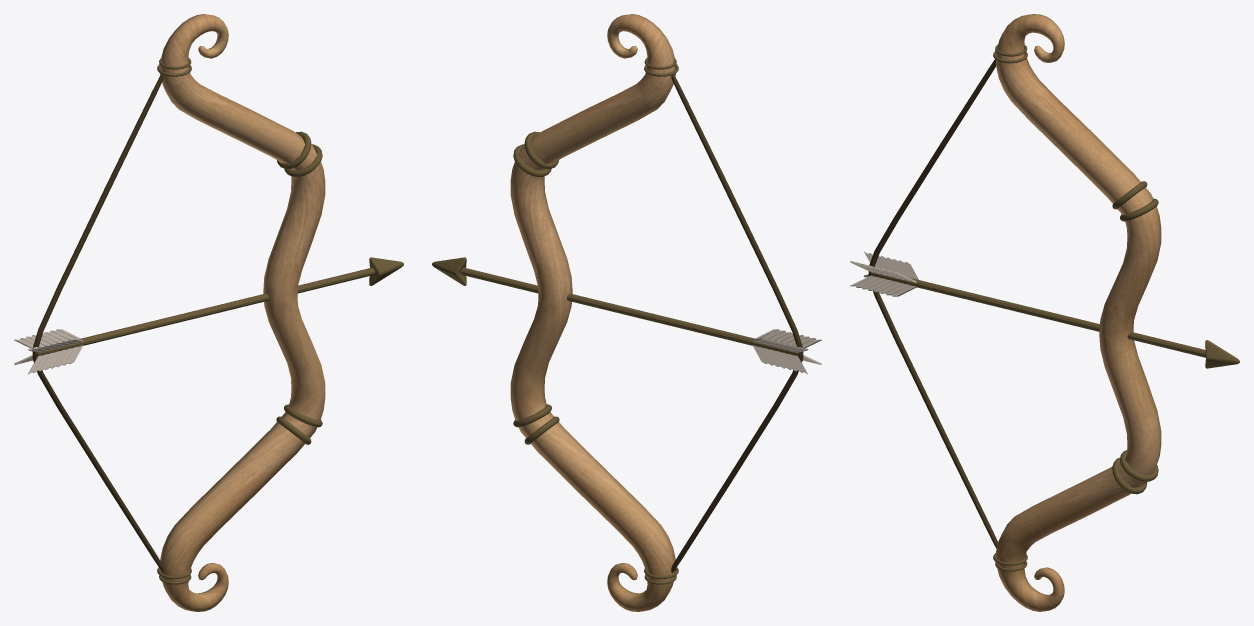
File: bow & arrow_Texture.fbx
3 renders of one model, left to right at view 1: azimuth 30°, elevation 25°; view 2: azimuth 150°, elevation 25°; view 3: azimuth 330°, elevation 25°, orthographic.
Visible parts, largest first — view 1: pCube2, pCylinder2, polySurface5, polySurface3, polySurface6; view 2: pCube2, pCylinder2, polySurface5, polySurface3, polySurface6; view 3: pCube2, pCylinder2, polySurface5, polySurface3, polySurface6.
Boxes of the visible parts, x1,y1,x2,y2 form: pCube2: (160, 14, 325, 611); pCylinder2: (32, 74, 163, 572); polySurface5: (37, 267, 375, 356); polySurface3: (14, 329, 83, 374); polySurface6: (369, 257, 403, 285); pCube2: (510, 14, 675, 611); pCylinder2: (671, 74, 803, 572); polySurface5: (460, 267, 798, 356); polySurface3: (752, 329, 821, 374); polySurface6: (432, 257, 466, 285); pCube2: (996, 14, 1161, 611); pCylinder2: (868, 59, 998, 548); polySurface5: (870, 272, 1205, 357); polySurface3: (850, 251, 918, 296); polySurface6: (1205, 340, 1239, 368).
Bounding box in the file's own units: 7.91 × 11.77 × 0.761.
Materials: 4 (1 with a texture image).
